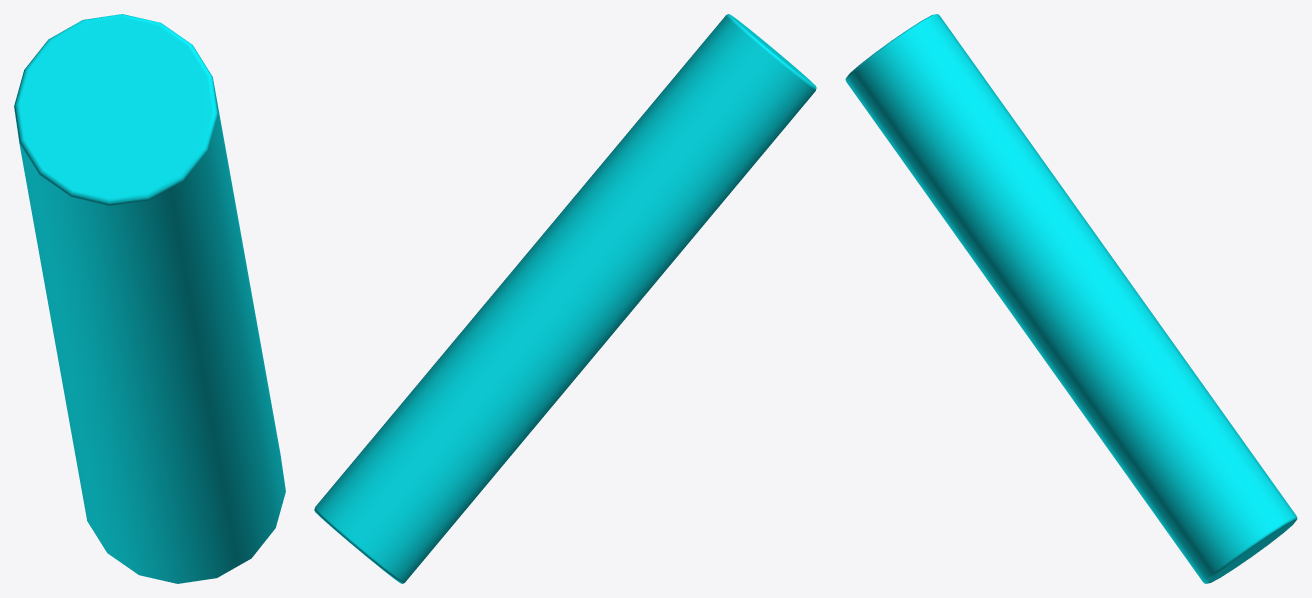
Rendered from susp_front_pushrod_damper_fr.glb.
The picture shows the model from 3 angles, left to right: view 1: azimuth 30°, elevation 25°; view 2: azimuth 150°, elevation 25°; view 3: azimuth 270°, elevation 25°; orthographic projection. The views are drawn at different scales.
Visible parts, largest first — view 1: SUSP_Front_Pushrod_Damper_FR; view 2: SUSP_Front_Pushrod_Damper_FR; view 3: SUSP_Front_Pushrod_Damper_FR.
Part boxes in pixels (<box>): SUSP_Front_Pushrod_Damper_FR: <box>14,14,285,583</box>; SUSP_Front_Pushrod_Damper_FR: <box>314,14,816,583</box>; SUSP_Front_Pushrod_Damper_FR: <box>845,14,1297,583</box>.
Bounding box in the file's own units: 0.2164 × 0.3165 × 0.2755.
